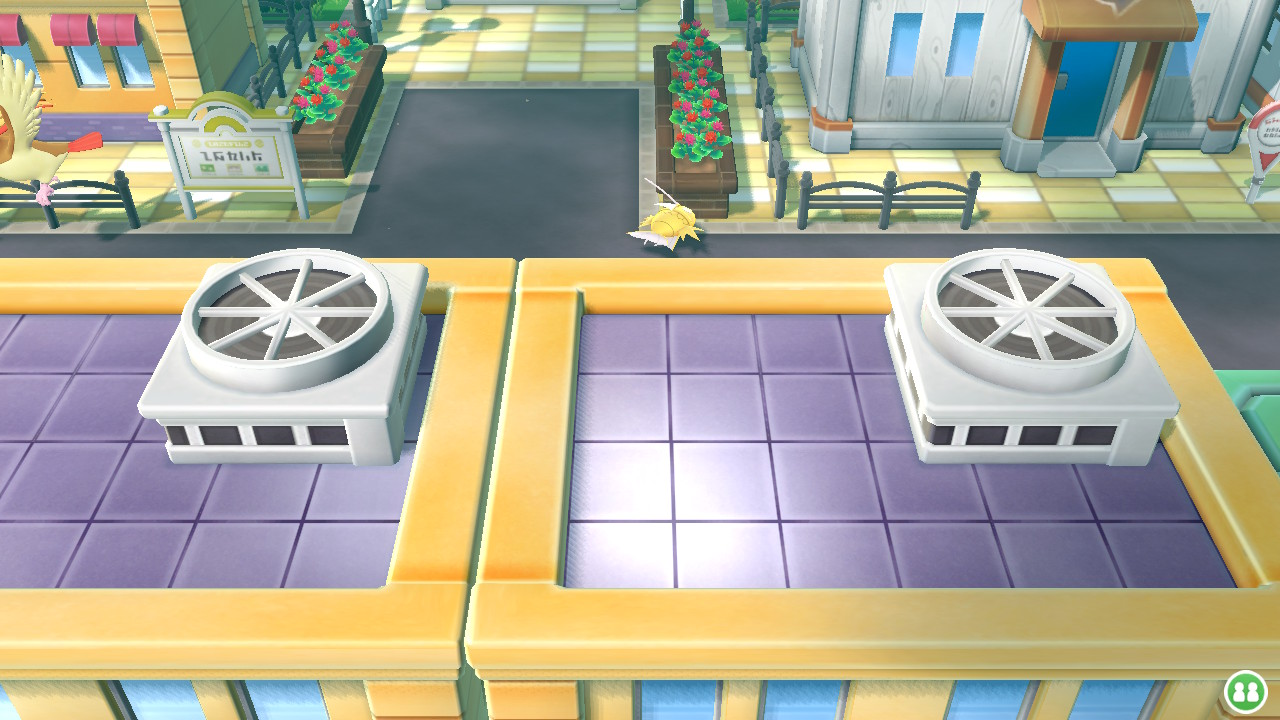Golden: (628, 190, 701, 254)
